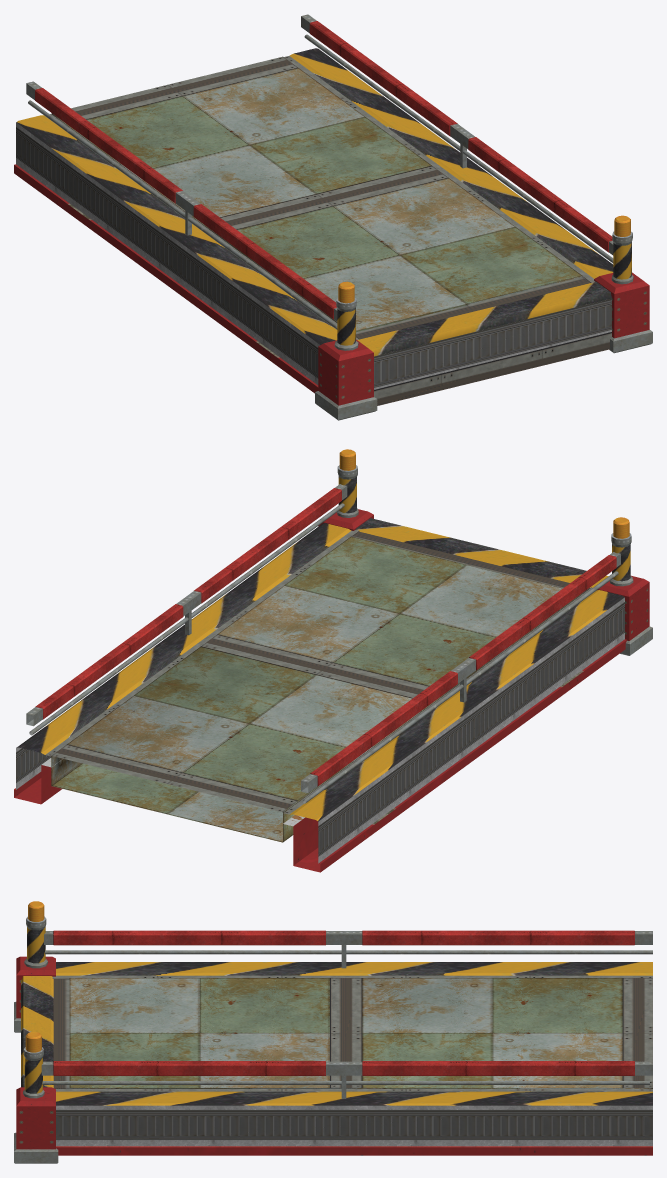
Rendered from Ob_GridPlatformEdge_RC.fbx.
3 views of the same model, one above another, from view 1: azimuth 30°, elevation 25°; view 2: azimuth 150°, elevation 25°; view 3: azimuth 270°, elevation 25° (orthographic). The views are drawn at different scales.
Visible parts, largest first — view 1: Ob_GridPlatformEdge_RC; view 2: Ob_GridPlatformEdge_RC; view 3: Ob_GridPlatformEdge_RC.
Part boxes in pixels (box(x1,y1,x2,y2)): Ob_GridPlatformEdge_RC: box(14, 14, 652, 420); Ob_GridPlatformEdge_RC: box(14, 449, 652, 872); Ob_GridPlatformEdge_RC: box(14, 901, 652, 1163).
Size of the model in its own units: 1187 by 445 by 2140.
